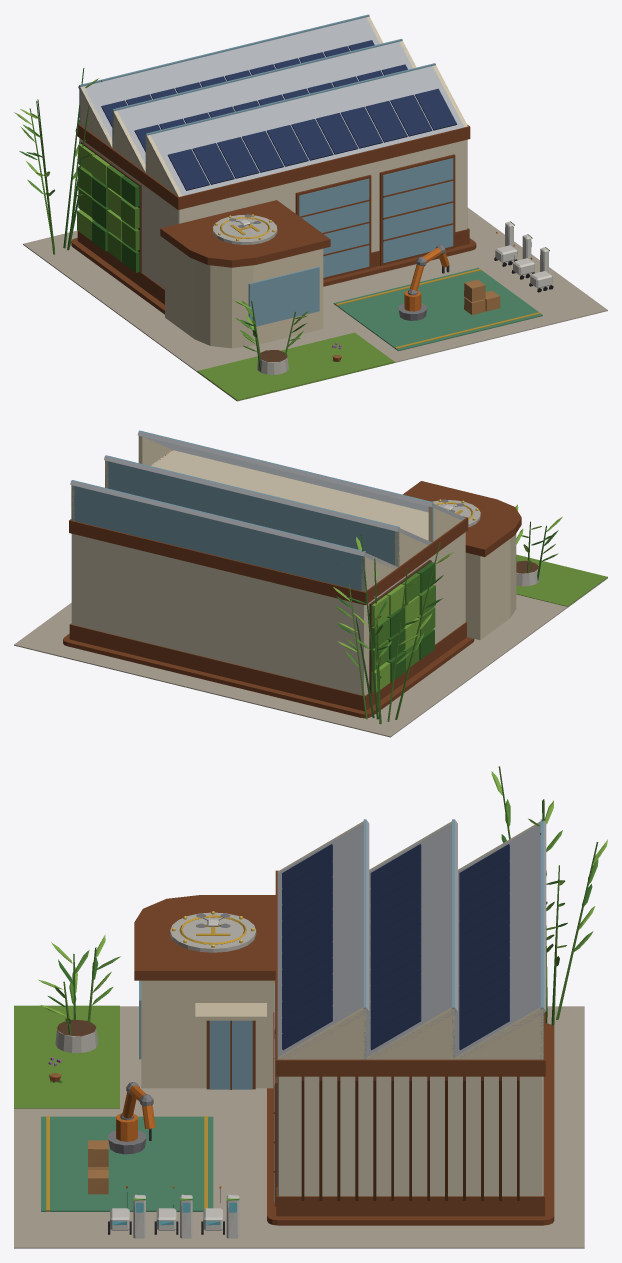
The model's file is factory_1.glb.
3 views of the same model, one above another, from view 1: azimuth 30°, elevation 25°; view 2: azimuth 150°, elevation 25°; view 3: azimuth 270°, elevation 25° (orthographic). The views are drawn at different scales.
Parts seen in each view (by area): view 1: body; view 2: body; view 3: body, windows.
Part boxes in pixels (box(x1,y1,x2,y2)): body: box(14, 14, 607, 401); body: box(14, 430, 607, 737); body: box(14, 766, 607, 1248); windows: box(112, 911, 254, 1225).
Size of the model in its own units: 17.09 by 7.44 by 16.55.
